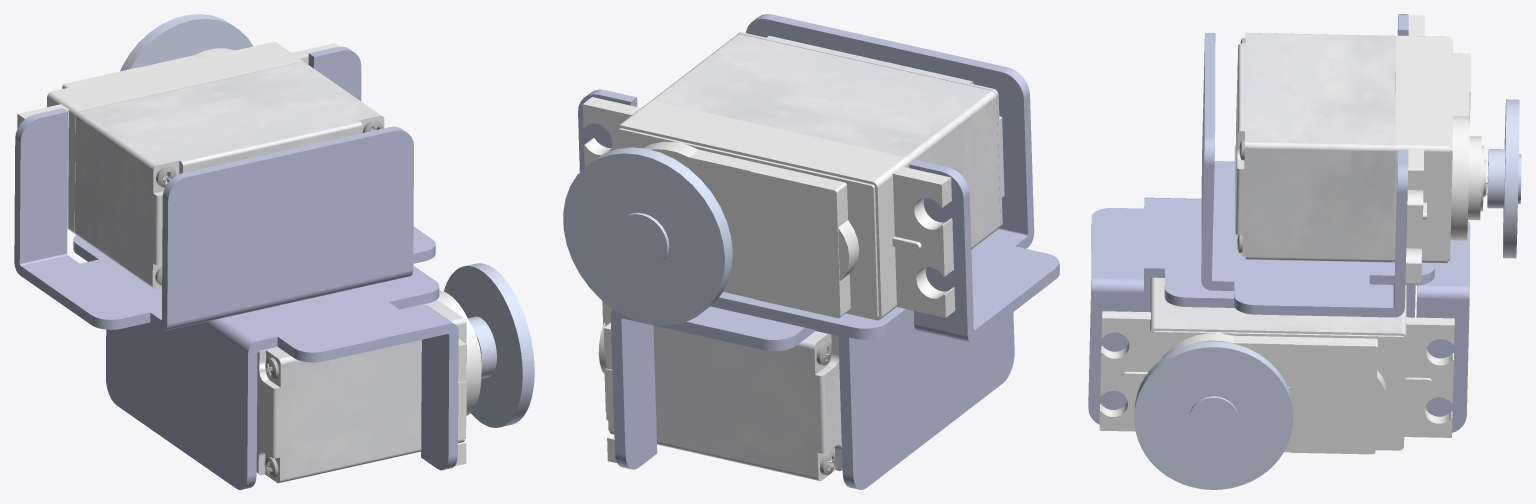
The model's file is shoulderjoint.dae.
3 views of the same model, side by side, from view 1: azimuth 30°, elevation 25°; view 2: azimuth 150°, elevation 25°; view 3: azimuth 270°, elevation 25° (orthographic). The views are drawn at different scales.
Visible parts, largest first — view 1: Actor0; view 2: Actor0; view 3: Actor0.
Part boxes in pixels (x1=…): Actor0: x1=14, y1=14, x2=534, y2=489; Actor0: x1=563, y1=14, x2=1059, y2=489; Actor0: x1=1088, y1=14, x2=1521, y2=489.
Bounding box in the file's own units: 0.0645 × 0.0521 × 0.0656.
6 materials, 2 textured.
